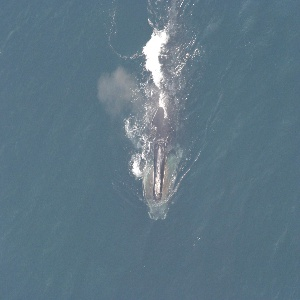cetacean: (132, 1, 187, 219)
